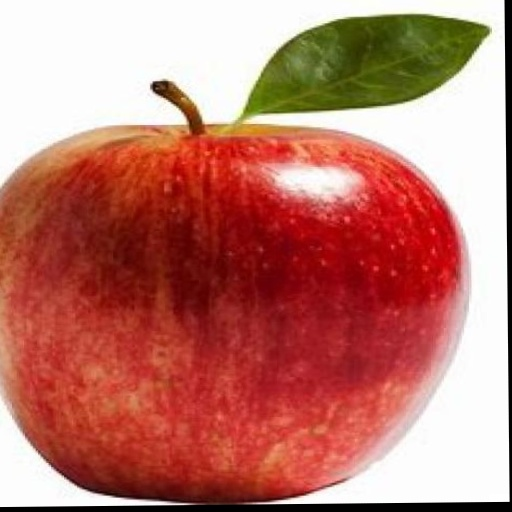fruit: (0, 83, 467, 502)
